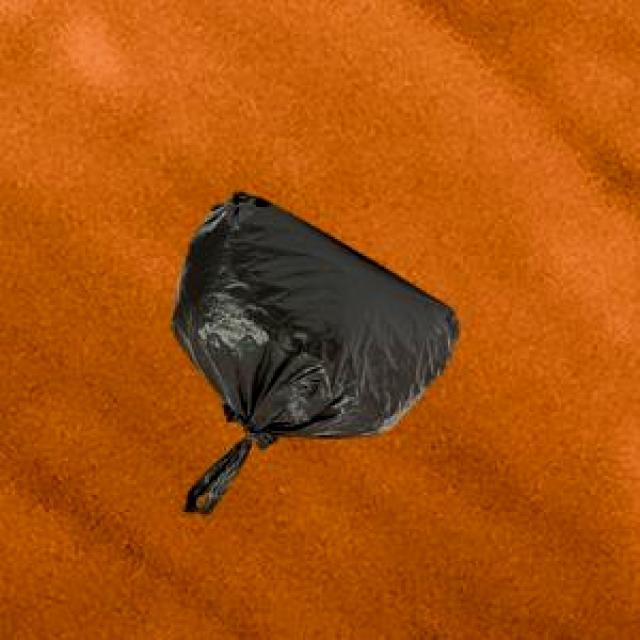Trashbag: (169, 185, 463, 524)
